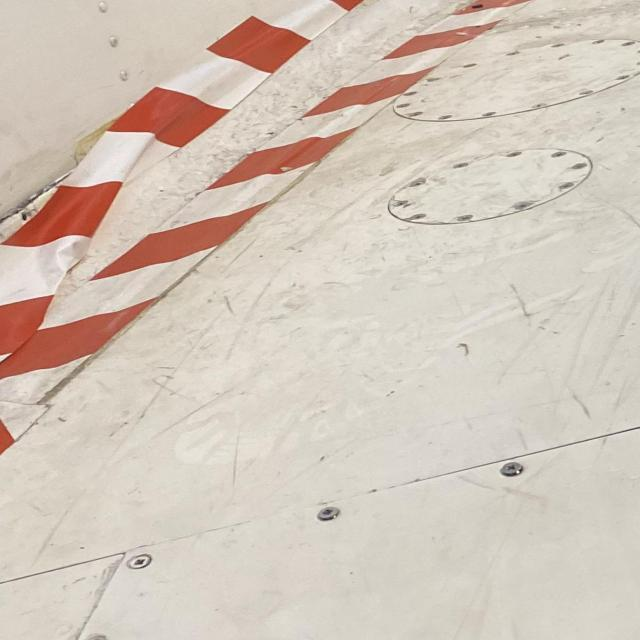Rupture: (0, 171, 74, 226)
